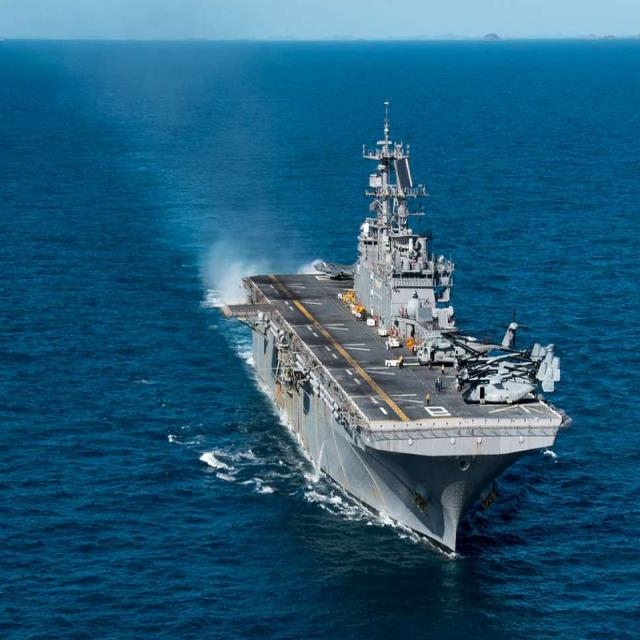navalvessels: (222, 107, 582, 556)
